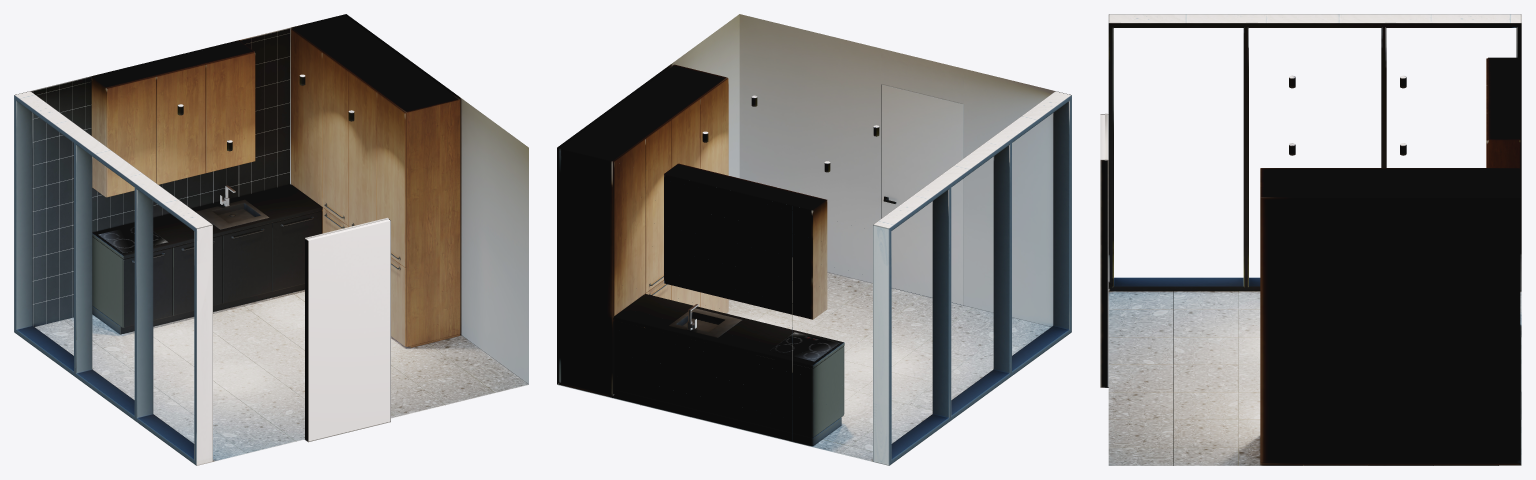
3 renders of one model, left to right at view 1: azimuth 30°, elevation 25°; view 2: azimuth 150°, elevation 25°; view 3: azimuth 270°, elevation 25°, orthographic. The views are drawn at different scales.
Visible parts, largest first — view 1: walls, kitchen; view 2: walls, kitchen; view 3: kitchen, walls.
Part boxes in pixels (x1,y1,x2,y2): walls: [14, 14, 528, 465]; kitchen: [91, 16, 460, 347]; walls: [557, 14, 1071, 465]; kitchen: [559, 64, 879, 446]; kitchen: [1260, 57, 1520, 464]; walls: [1100, 14, 1521, 465].
Bounding box in the file's own units: 4.02 × 2.74 × 3.9.
2 materials, 2 textured.
